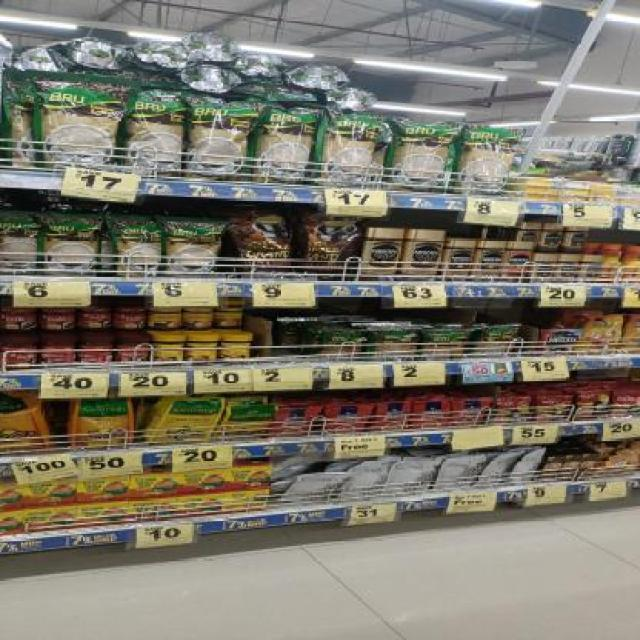Coffee: (362, 228, 404, 282), (405, 229, 444, 281), (581, 316, 623, 354), (446, 239, 476, 282), (478, 240, 508, 282), (543, 330, 579, 354), (601, 244, 621, 281), (621, 245, 640, 281), (533, 254, 555, 282), (580, 255, 602, 283), (564, 227, 586, 253), (540, 223, 560, 251), (558, 254, 578, 282)
